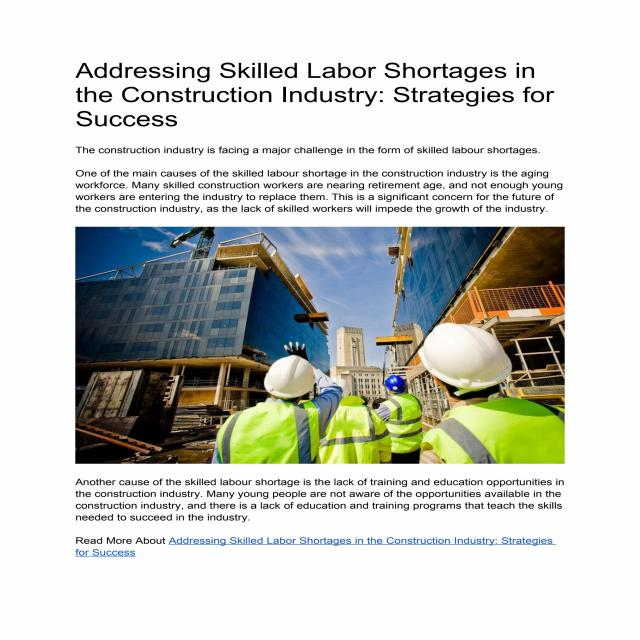Reflective-Jacket: (422, 398, 564, 465), (215, 401, 322, 464), (316, 398, 392, 465), (385, 393, 423, 452)
Safety-Helmet: (415, 320, 514, 389), (260, 352, 317, 400), (381, 374, 407, 391)
